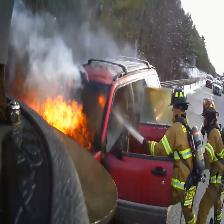fire: (35, 101, 85, 135)
smoke: (19, 28, 111, 82)
